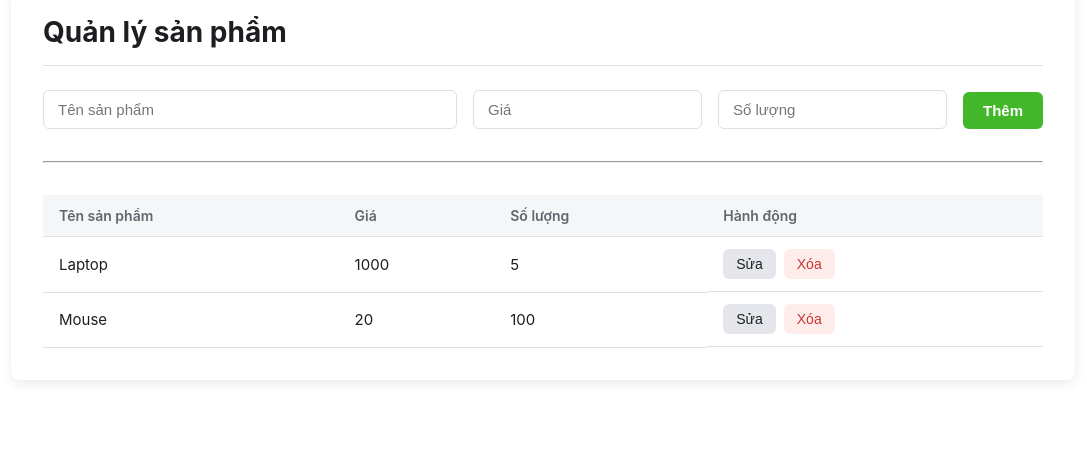
Test: ProductPage - Mock Component Tests › thêm sản phẩm mới vào danh sách
Expected: the text "Laptop" is shown, 43,236 -> 339,292
Type "Keyboard" into the field with test id "product-name-input" at (250,110), box 43,90 -> 457,129
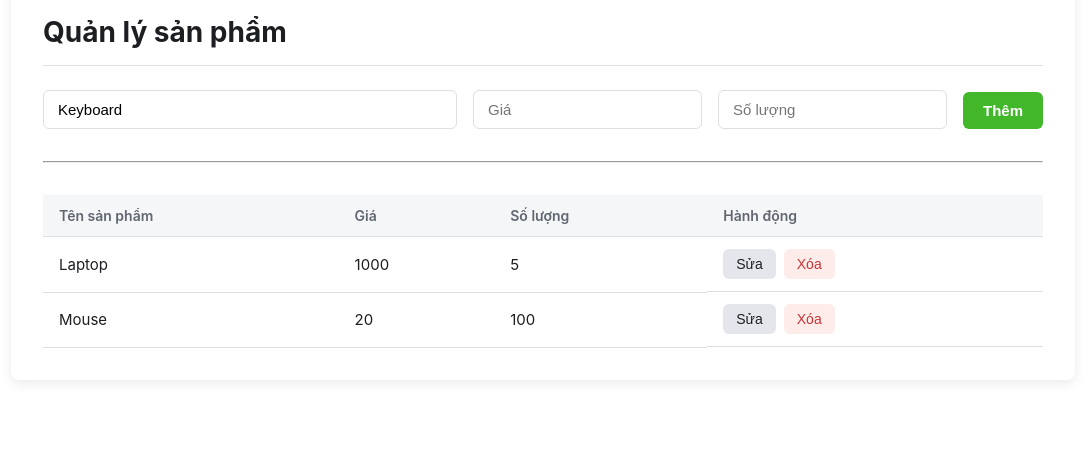
Type "50" into the number field with test id "product-price-input" at (588,110), box 473,90 -> 702,129
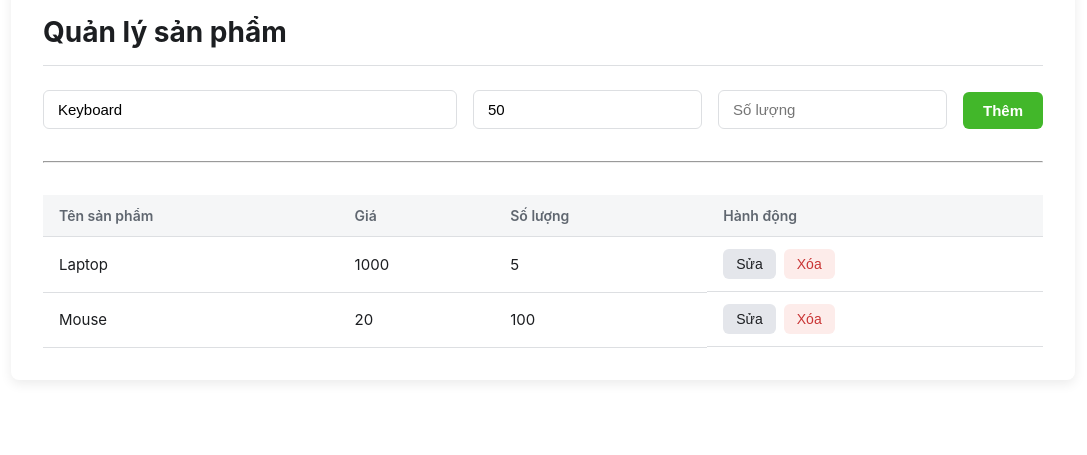
Type "30" into the number field with test id "product-quantity-input" at (832,110), box 718,90 -> 947,129
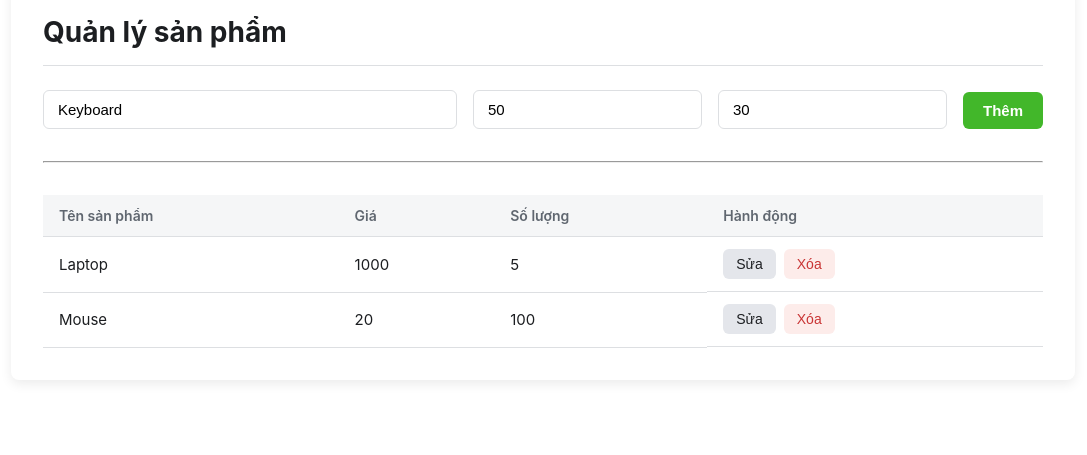
Click the button with test id "product-submit-button" at (1003,110), box 963,92 -> 1043,129
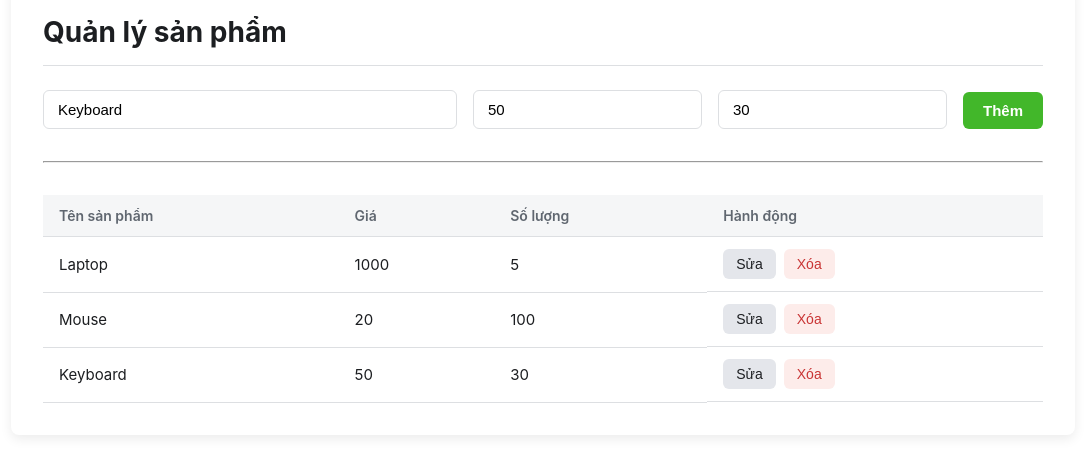
Expected: the row with test id "product-item-3" is shown, 43,347 -> 1043,402
